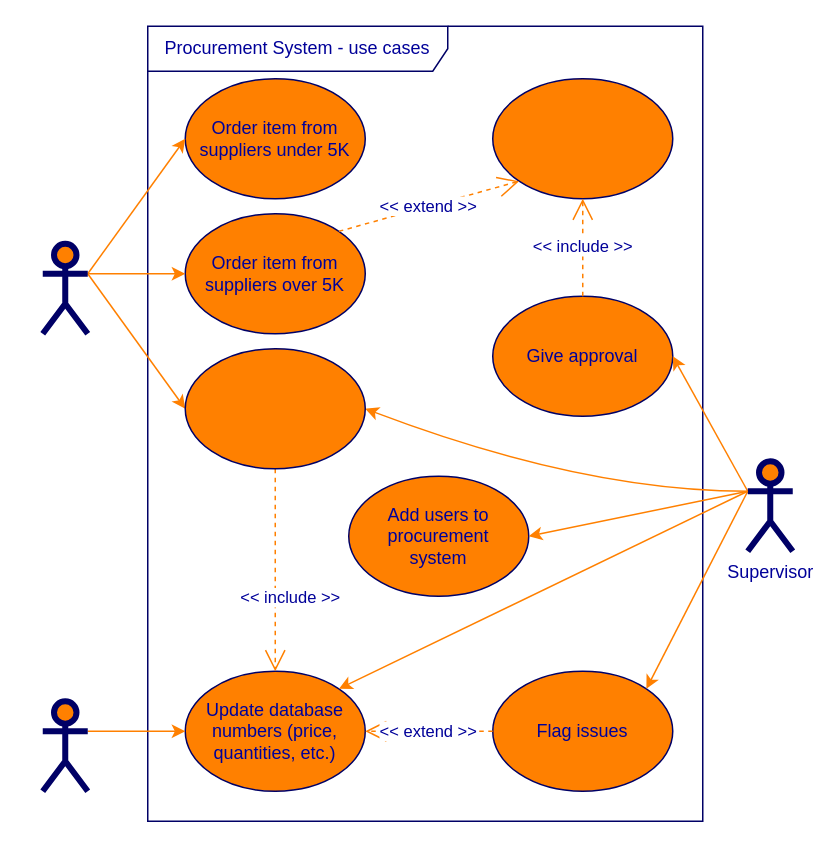
Some shapes in this 839 by 849 pixel diagram are drawn without their labels. The shapes that lost their labels are listed below. From the top down, each one's centre as x and y in pixels, then its label:
At (x=582, y=138): "Update pending orders (queue)".
At (x=64, y=288): "Employee".
At (x=274, y=408): "Enter/Search for item".
At (x=64, y=746): "Supplier".
